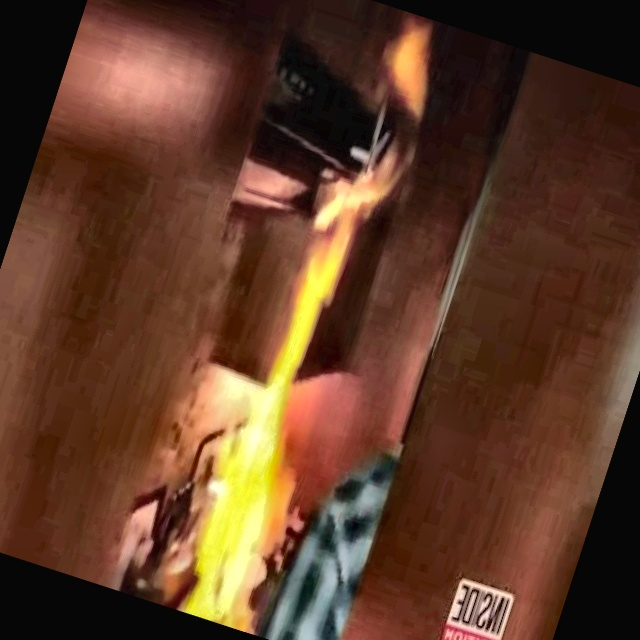fire: (112, 0, 461, 638)
